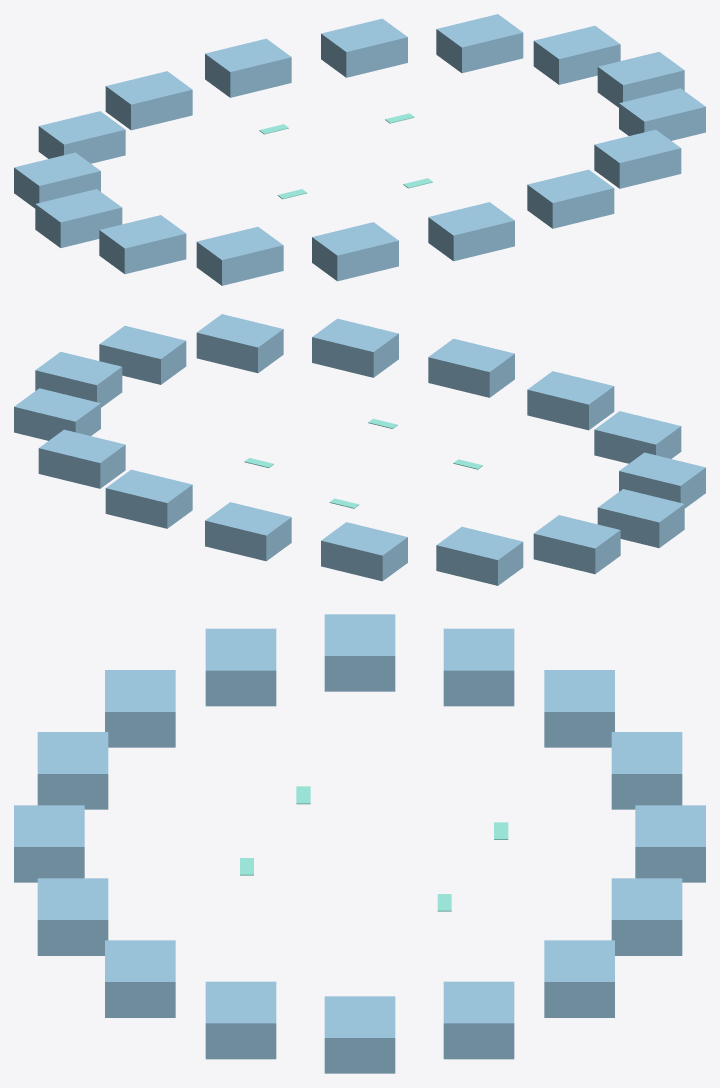
Rendered from glow_ice_pool.glb.
The picture shows the model from 3 angles, top to bottom: view 1: azimuth 30°, elevation 25°; view 2: azimuth 150°, elevation 25°; view 3: azimuth 270°, elevation 25°; orthographic projection. The views are drawn at different scales.
Parts seen in each view (by area): view 1: glow_ice_pool; view 2: glow_ice_pool; view 3: glow_ice_pool.
Boxes of the visible parts, left/top/right/bottom form: glow_ice_pool: left=14, top=14, right=705, bottom=285; glow_ice_pool: left=14, top=314, right=705, bottom=585; glow_ice_pool: left=14, top=614, right=705, bottom=1073.
Size of the model in its own units: 3.55 by 0.14 by 2.45.
